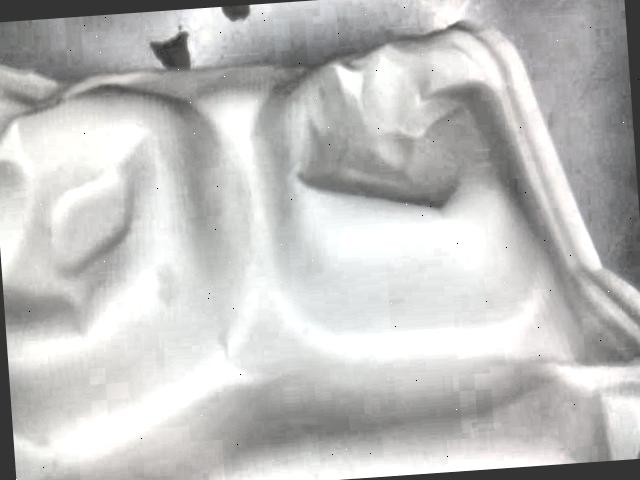Paper: (0, 15, 640, 480)
